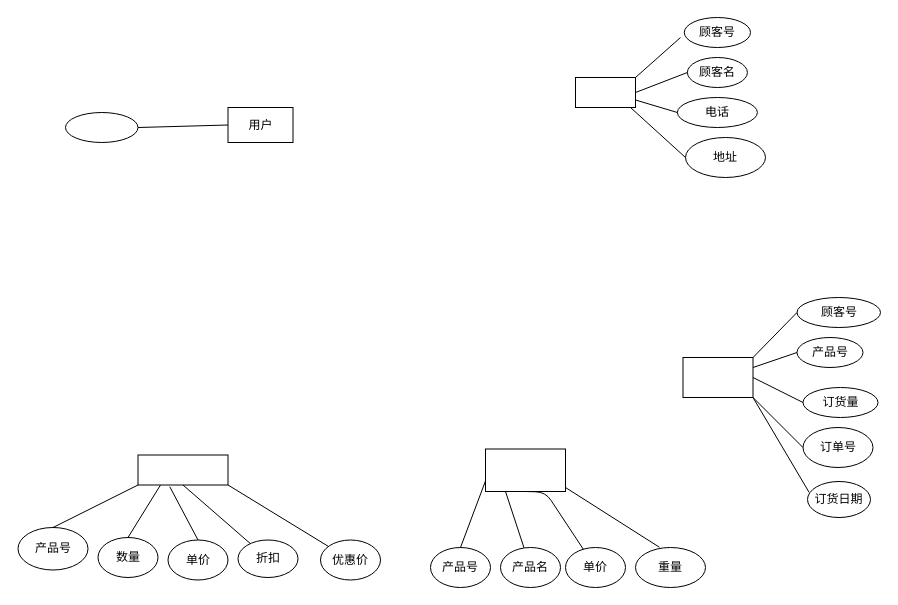
Some shapes in this 898 by 605 pixel diagram are drawn without their labels. Here are the shapes that lost their labels. From the top down, the centre of each, then its label:
point (605, 92): 顾客
point (101, 127): 用户类型
point (717, 377): 订单
point (182, 469): 折扣规则
point (525, 470): 产品
